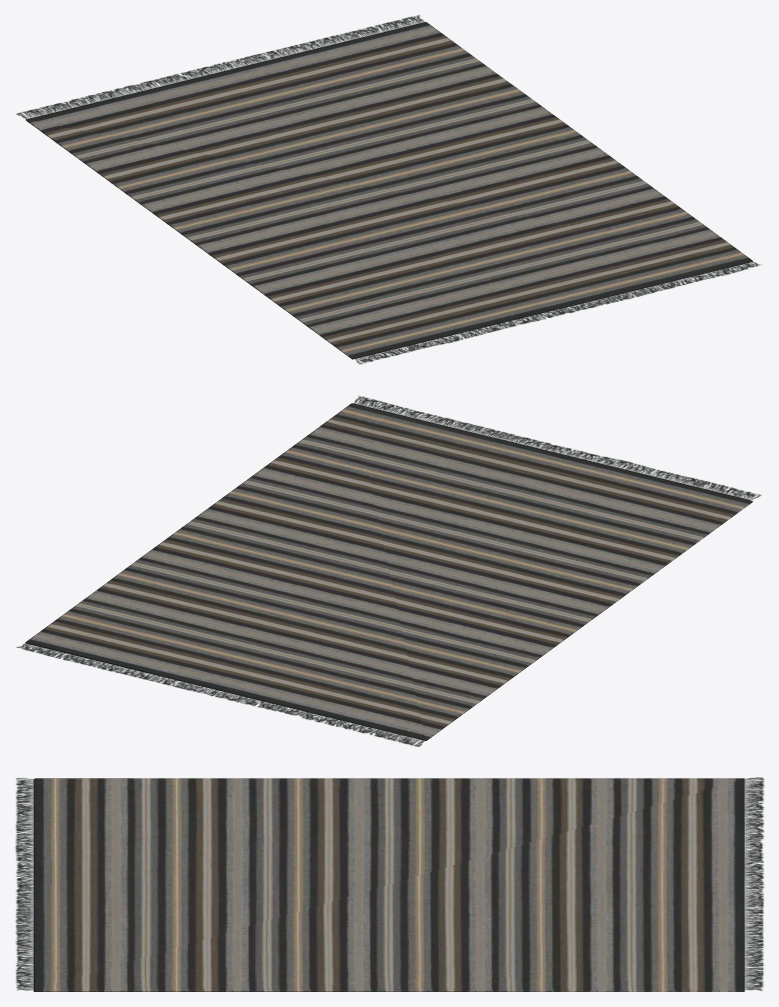
3 views of the same model, one above another, from view 1: azimuth 30°, elevation 25°; view 2: azimuth 150°, elevation 25°; view 3: azimuth 270°, elevation 25° (orthographic). The views are drawn at different scales.
Parts seen in each view (by area): view 1: 20610905-RÃƒâ€¦VAROR001; view 2: 20610905-RÃƒâ€¦VAROR001; view 3: 20610905-RÃƒâ€¦VAROR001.
Boxes of the visible parts, x1,y1,x2,y2 form: 20610905-RÃƒâ€¦VAROR001: (16, 15, 759, 364); 20610905-RÃƒâ€¦VAROR001: (16, 396, 761, 746); 20610905-RÃƒâ€¦VAROR001: (15, 777, 764, 991).
Bounding box in the file's own units: 1.72 × 0.00991 × 2.54.
Materials: 1 (1 with a texture image).
